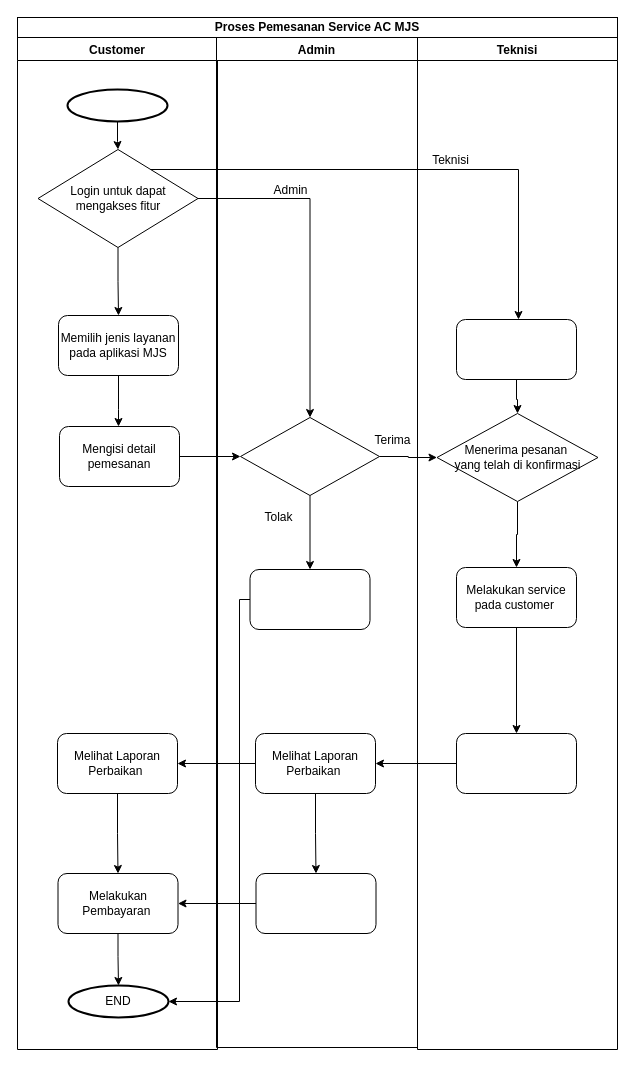
Image size: 635x1067. Some labels were removed from this diagram. Each missing label, with the centre of its shape:
Konfirmasi Pembayaran: the point at 315,903
Melihat data pesanan customer: the point at 516,349
Membuat laporan perbaikan: the point at 516,763
Mengirim notifikasi pesanan di tolak: the point at 309,599
Mengkonfirmasi pesanan: the point at 310,456
START: the point at 117,105
